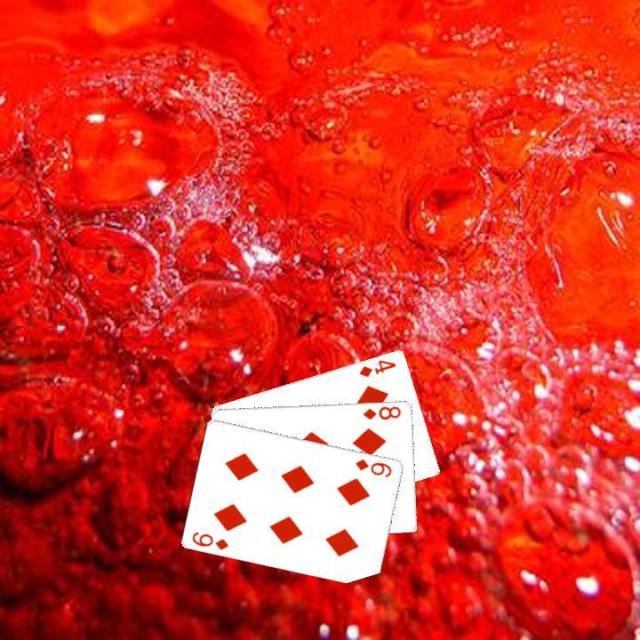4D: (356, 356, 398, 378)
6D: (352, 455, 394, 479), (188, 527, 230, 551)
8D: (359, 402, 403, 421)
